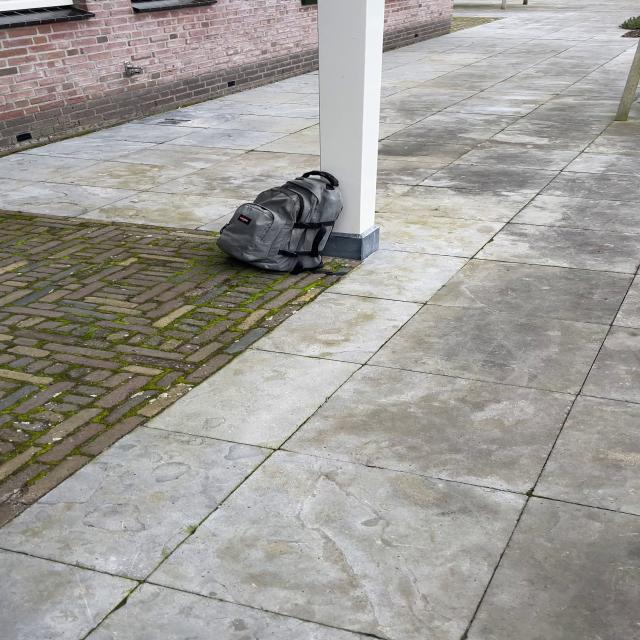backpack: (209, 169, 354, 277)
